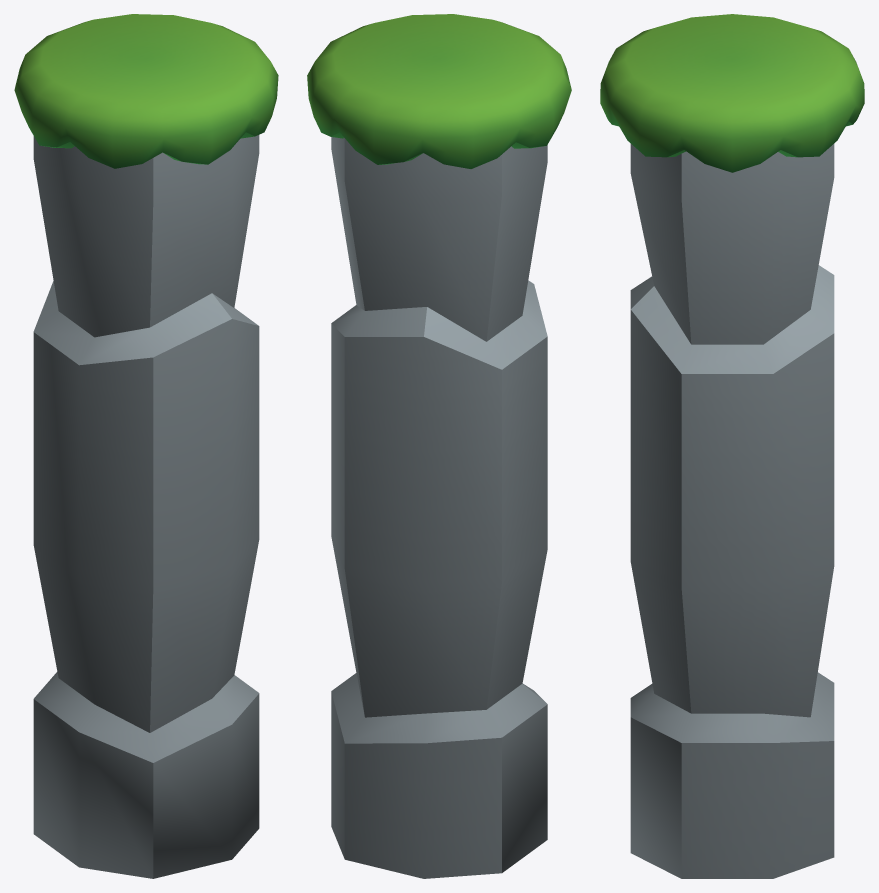
The model's file is Hill_2x2x8_Color1.gltf.
3 renders of one model, left to right at view 1: azimuth 30°, elevation 25°; view 2: azimuth 150°, elevation 25°; view 3: azimuth 270°, elevation 25°, orthographic.
Visible parts, largest first — view 1: Hill_2x2x8_Color1; view 2: Hill_2x2x8_Color1; view 3: Hill_2x2x8_Color1.
Part boxes in pixels (bbox=[...]): Hill_2x2x8_Color1: bbox=[14, 14, 278, 878]; Hill_2x2x8_Color1: bbox=[307, 14, 571, 878]; Hill_2x2x8_Color1: bbox=[600, 14, 864, 878].
Bounding box in the file's own units: 2.47 × 8 × 2.47.
1 material, 1 textured.
